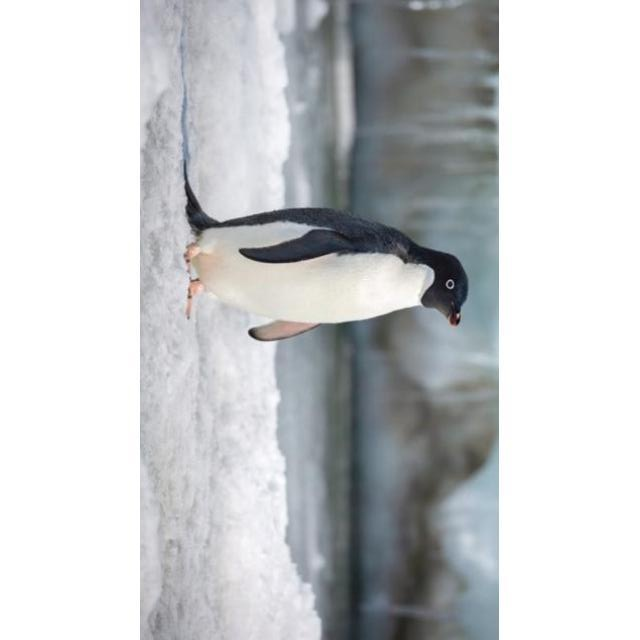penguin: (184, 161, 469, 338)
